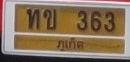txt02: (41, 8, 57, 31)
txt18: (25, 7, 40, 30)
